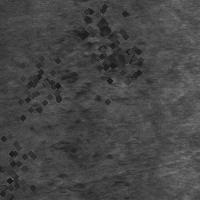rolled-in_scale: (29, 27, 153, 171), (0, 44, 76, 124), (38, 138, 128, 195), (64, 0, 140, 67), (0, 119, 54, 200), (87, 25, 151, 89)
